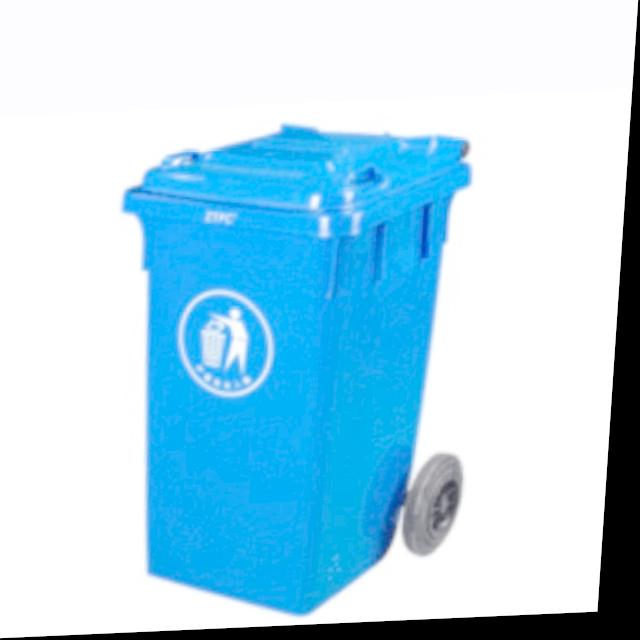garbage_bin: (100, 118, 478, 626)
